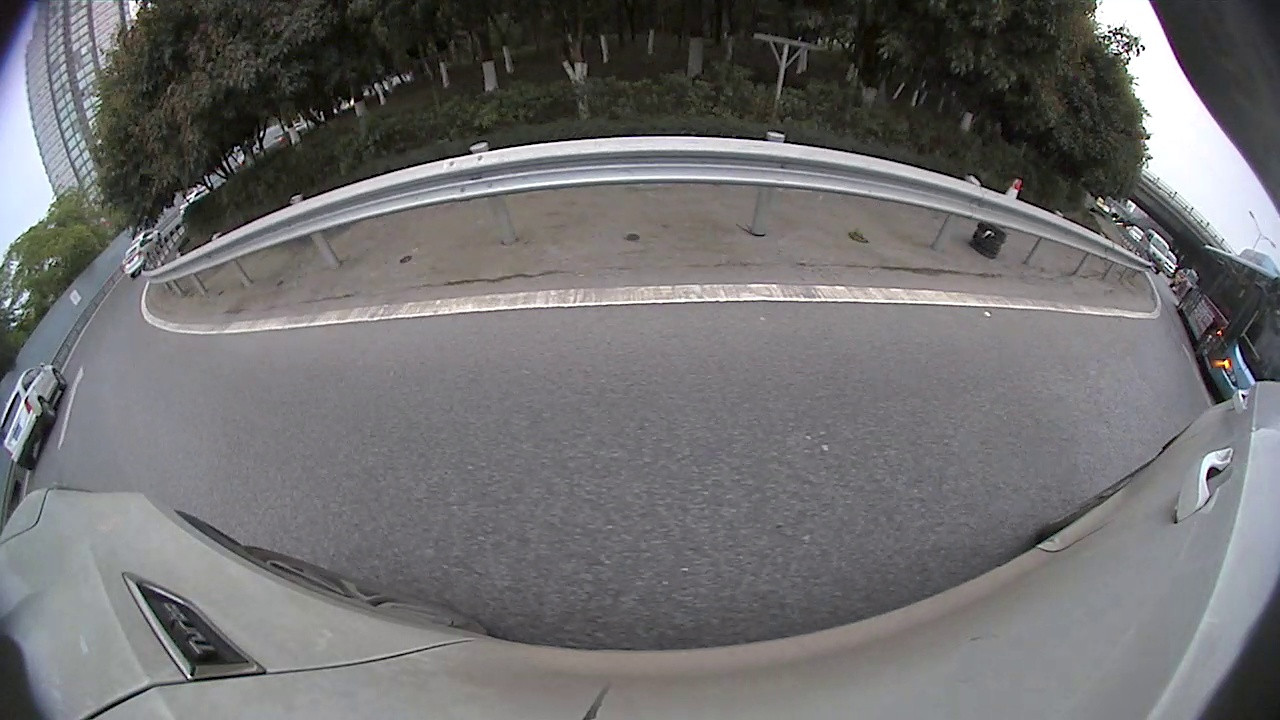bus: (1175, 243, 1279, 399)
car: (0, 359, 72, 474), (118, 235, 162, 276), (1139, 225, 1171, 276)
front: (1195, 325, 1218, 356), (53, 370, 71, 389)
rear: (38, 398, 60, 423)
